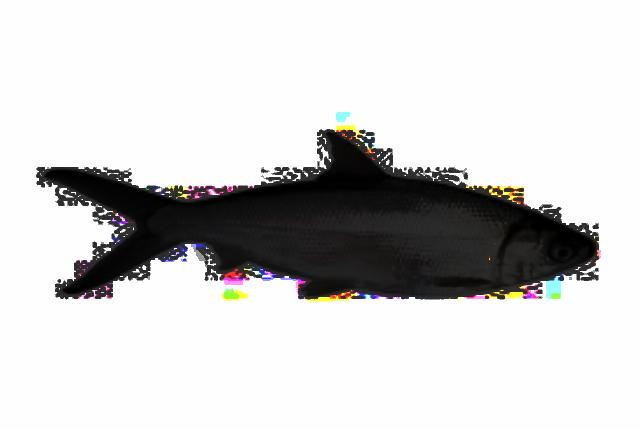Healthy Fish: (49, 133, 593, 294)
